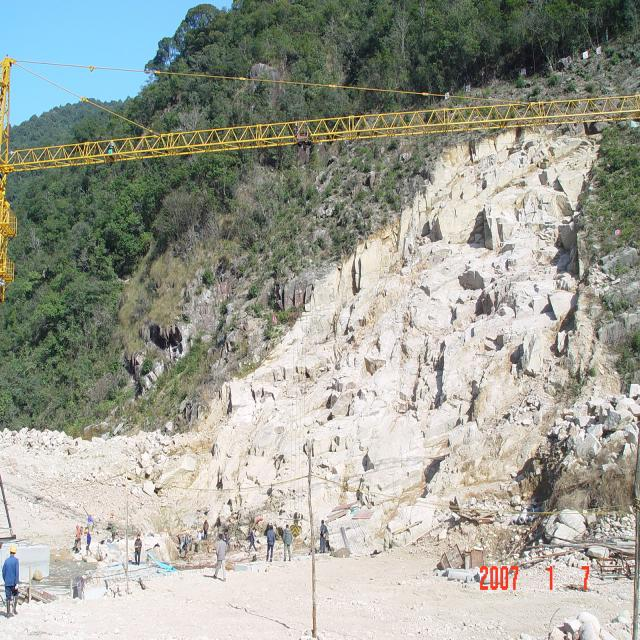crane: (0, 53, 640, 302)
